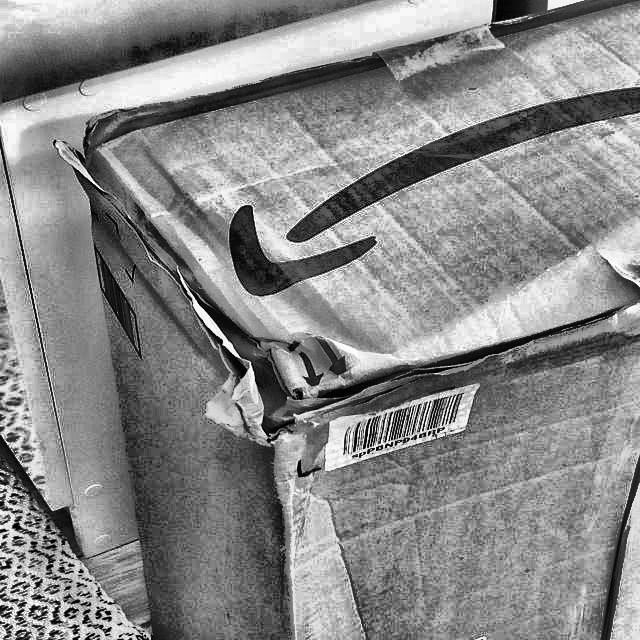box: (59, 0, 639, 639)
hole: (211, 323, 340, 445)
